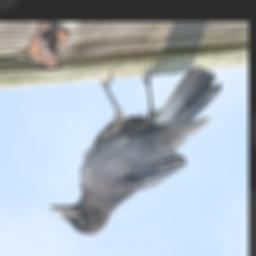Crow: (49, 66, 222, 235)
